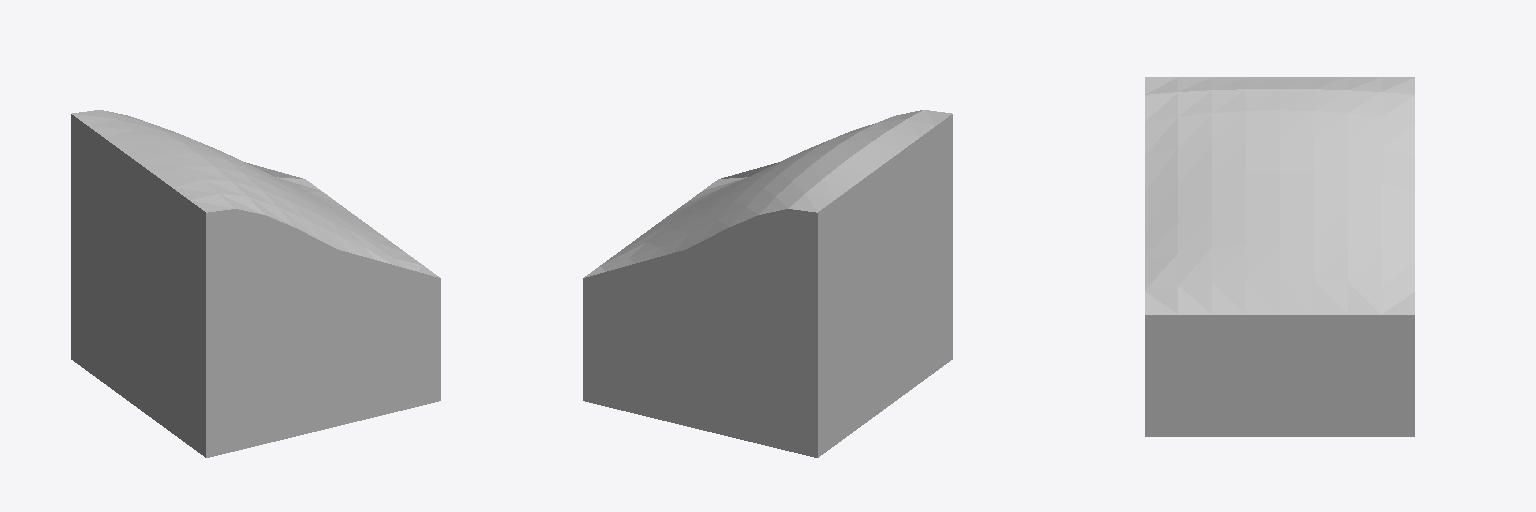
Rendered from block_rect_curved_hill_1x1.obj.
3 renders of one model, left to right at view 1: azimuth 30°, elevation 25°; view 2: azimuth 150°, elevation 25°; view 3: azimuth 270°, elevation 25°, orthographic.
Parts seen in each view (by area): view 1: block_rect_1x1:Mesh; view 2: block_rect_1x1:Mesh; view 3: block_rect_1x1:Mesh.
Boxes of the visible parts, x1,y1,x2,y2 form: block_rect_1x1:Mesh: [71, 110, 440, 457]; block_rect_1x1:Mesh: [583, 110, 952, 457]; block_rect_1x1:Mesh: [1145, 77, 1414, 436].
Size of the model in its own units: 100 by 101 by 100.